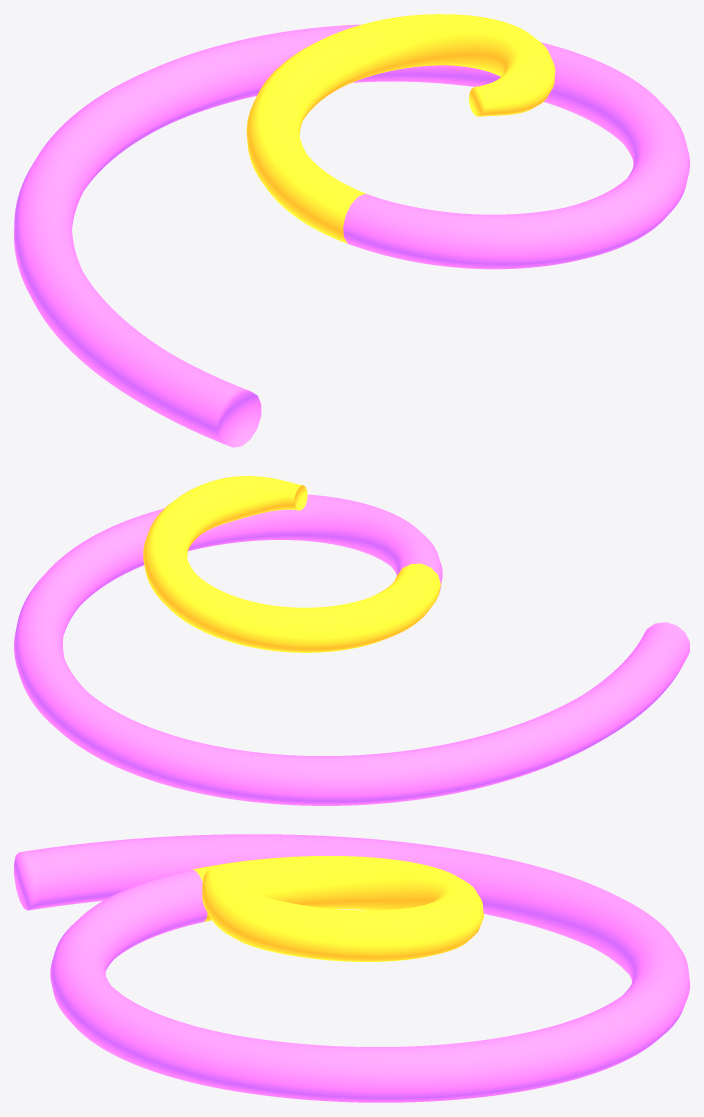
Rendered from vaquita_noodle.glb.
The picture shows the model from 3 angles, top to bottom: view 1: azimuth 30°, elevation 25°; view 2: azimuth 150°, elevation 25°; view 3: azimuth 270°, elevation 25°; orthographic projection. The views are drawn at different scales.
Parts seen in each view (by area): view 1: Vaquita | TURN COUNT NOODLE | T00_100, Vaquita | TURN COUNT NOODLE | T100_200; view 2: Vaquita | TURN COUNT NOODLE | T00_100, Vaquita | TURN COUNT NOODLE | T100_200; view 3: Vaquita | TURN COUNT NOODLE | T00_100, Vaquita | TURN COUNT NOODLE | T100_200.
Boxes of the visible parts, x1,y1,x2,y2 form: Vaquita | TURN COUNT NOODLE | T00_100: [14, 24, 689, 447]; Vaquita | TURN COUNT NOODLE | T100_200: [246, 14, 555, 243]; Vaquita | TURN COUNT NOODLE | T00_100: [14, 494, 689, 805]; Vaquita | TURN COUNT NOODLE | T100_200: [143, 476, 440, 652]; Vaquita | TURN COUNT NOODLE | T00_100: [14, 834, 689, 1102]; Vaquita | TURN COUNT NOODLE | T100_200: [191, 856, 483, 961].
Size of the model in its own units: 7.61 by 2.47 by 7.3.
